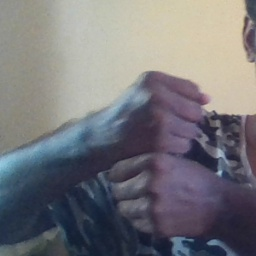G: (107, 68, 218, 232)
